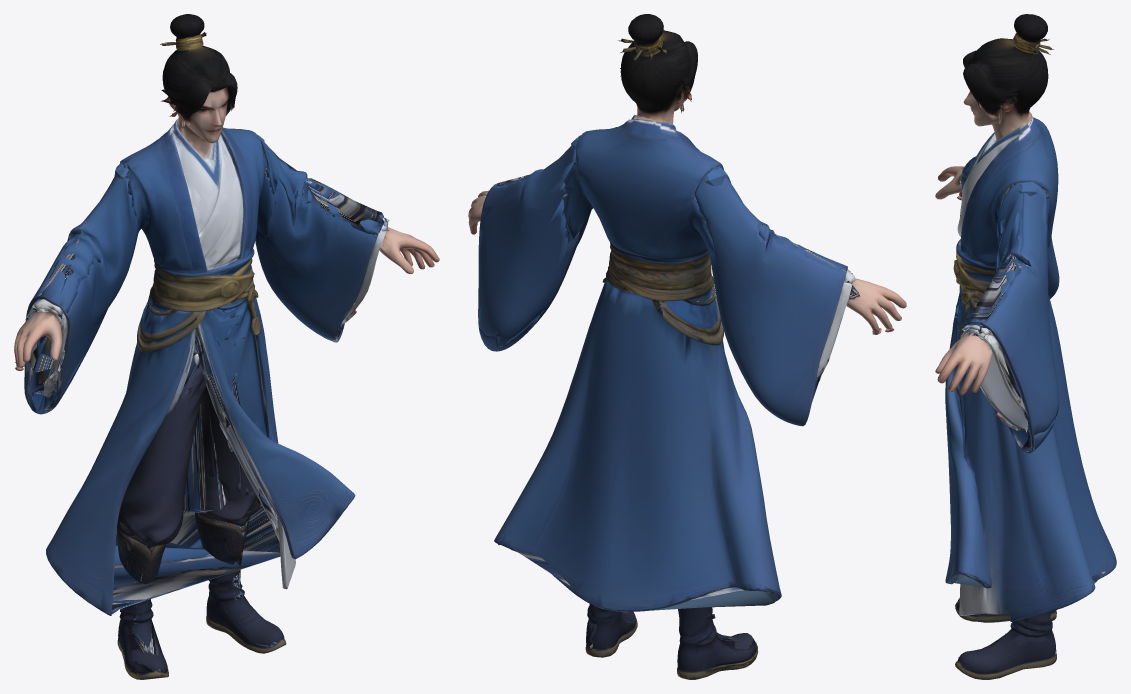
The model's file is cultivator_jade.glb.
The picture shows the model from 3 angles, left to right: view 1: azimuth 30°, elevation 25°; view 2: azimuth 150°, elevation 25°; view 3: azimuth 270°, elevation 25°; orthographic projection. The views are drawn at different scales.
Visible parts, largest first — view 1: Robe_Skirt, Robe_Upper, Hand_R, Hand_L, Robe_Panel, Leg_L, Arm_Sleeve_R, Leg_R, Arm_Sleeve_L, Foot_R, Cuff_L, Cuff_R (+1 smaller); view 2: Robe_Skirt, Robe_Upper, Hand_L, Hand_R, Leg_L, Cuff_L, Robe_HemBand, Leg_R, Arm_Sleeve_L, Foot_R; view 3: Robe_Skirt, Robe_Upper, Hand_R, Arm_Sleeve_R, Foot_R, Cuff_R, Leg_R, Cuff_L, Hand_L, Leg_L, Robe_HemBand.
Boxes of the visible parts, bbox=[...] form: Robe_Skirt: bbox=[15, 264, 434, 618]; Robe_Upper: bbox=[120, 14, 272, 327]; Hand_R: bbox=[255, 170, 388, 342]; Hand_L: bbox=[24, 161, 138, 414]; Robe_Panel: bbox=[179, 320, 277, 529]; Leg_L: bbox=[117, 529, 168, 679]; Arm_Sleeve_R: bbox=[260, 139, 389, 234]; Leg_R: bbox=[195, 512, 274, 648]; Arm_Sleeve_L: bbox=[26, 221, 101, 326]; Foot_R: bbox=[206, 596, 286, 653]; Cuff_L: bbox=[14, 307, 63, 382]; Cuff_R: bbox=[367, 227, 439, 291]; Robe_Skirt: bbox=[478, 282, 894, 638]; Robe_Upper: bbox=[562, 14, 730, 315]; Hand_L: bbox=[693, 164, 847, 426]; Hand_R: bbox=[478, 146, 584, 346]; Leg_L: bbox=[677, 607, 757, 679]; Cuff_L: bbox=[816, 278, 906, 376]; Robe_HemBand: bbox=[497, 543, 780, 612]; Leg_R: bbox=[587, 604, 636, 649]; Arm_Sleeve_L: bbox=[757, 224, 860, 299]; Foot_R: bbox=[585, 611, 637, 657]; Robe_Skirt: bbox=[945, 195, 1116, 626]; Robe_Upper: bbox=[953, 14, 1058, 310]; Hand_R: bbox=[960, 185, 1059, 453]; Arm_Sleeve_R: bbox=[962, 182, 1031, 340]; Foot_R: bbox=[955, 628, 1056, 679]; Cuff_R: bbox=[935, 329, 1021, 404]; Leg_R: bbox=[1010, 612, 1056, 651]; Cuff_L: bbox=[935, 166, 964, 199]; Hand_L: bbox=[961, 175, 1059, 298]; Leg_L: bbox=[955, 601, 1056, 622]; Robe_HemBand: bbox=[946, 572, 1106, 621].
Size of the model in its own units: 1.22 by 1.75 by 0.4569.
3 materials, 1 textured.
